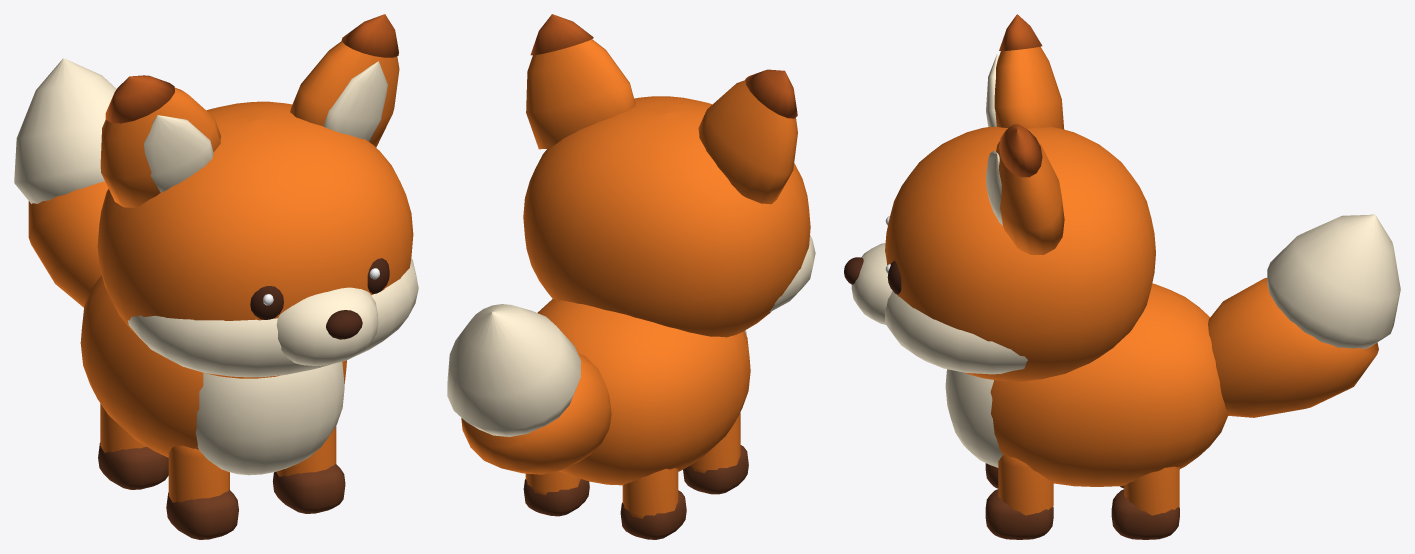
The model's file is fox_companion.glb.
The picture shows the model from 3 angles, left to right: view 1: azimuth 30°, elevation 25°; view 2: azimuth 150°, elevation 25°; view 3: azimuth 270°, elevation 25°; orthographic projection. The views are drawn at different scales.
Parts seen in each view (by area): view 1: Head, Body, Tail, Ear_R, Ear_L, Paw_FR, Paw_FL, Paw_BR; view 2: Head, Body, Tail, Ear_R, Ear_L, Paw_BR, Paw_FR, Paw_BL; view 3: Head, Body, Tail, Ear_L, Ear_R, Paw_FL, Paw_BL.
Part boxes in pixels (<box>): Head: <box>97,101,418,378</box>; Body: <box>80,275,346,475</box>; Tail: <box>14,58,116,307</box>; Ear_R: <box>100,75,220,207</box>; Ear_L: <box>290,14,399,147</box>; Paw_FR: <box>166,445,238,539</box>; Paw_FL: <box>272,426,345,513</box>; Paw_BR: <box>98,403,168,489</box>; Head: <box>523,96,815,337</box>; Body: <box>537,299,750,485</box>; Tail: <box>447,304,611,474</box>; Ear_R: <box>698,69,797,204</box>; Ear_L: <box>526,14,635,149</box>; Paw_BR: <box>620,468,686,539</box>; Paw_FR: <box>683,412,748,494</box>; Paw_BL: <box>523,470,589,516</box>; Head: <box>844,126,1155,381</box>; Body: <box>945,283,1228,486</box>; Tail: <box>1208,214,1400,417</box>; Ear_L: <box>986,124,1064,254</box>; Ear_R: <box>986,14,1064,129</box>; Paw_FL: <box>985,455,1053,539</box>; Paw_BL: <box>1111,466,1179,539</box>.
Size of the model in its own units: 0.3962 by 0.6139 by 0.7059.
